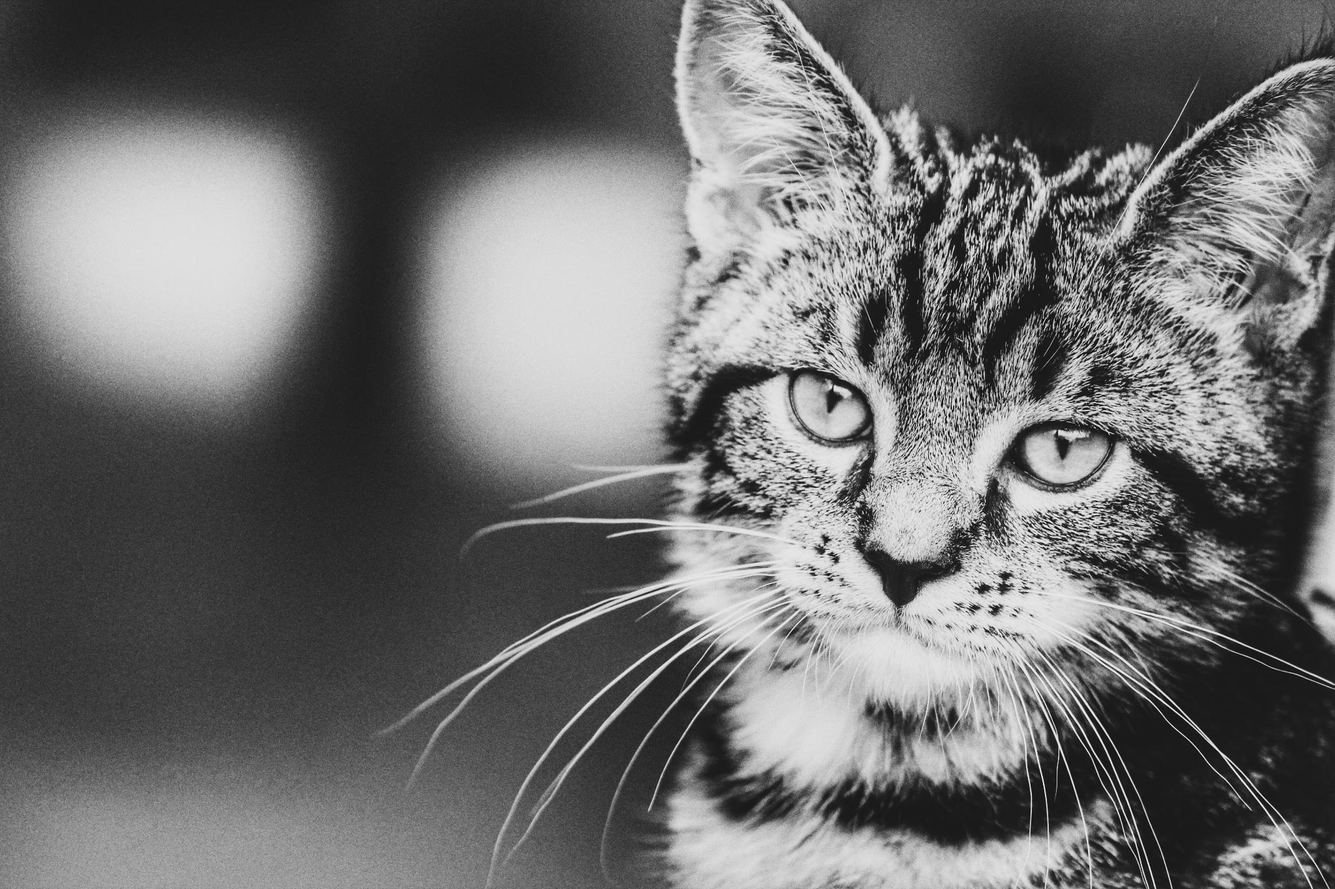cat: (373, 1, 1333, 887)
